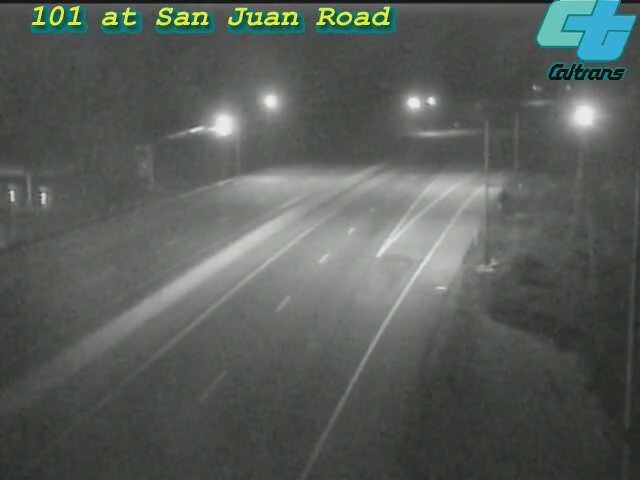vehicle: (556, 91, 606, 141)
